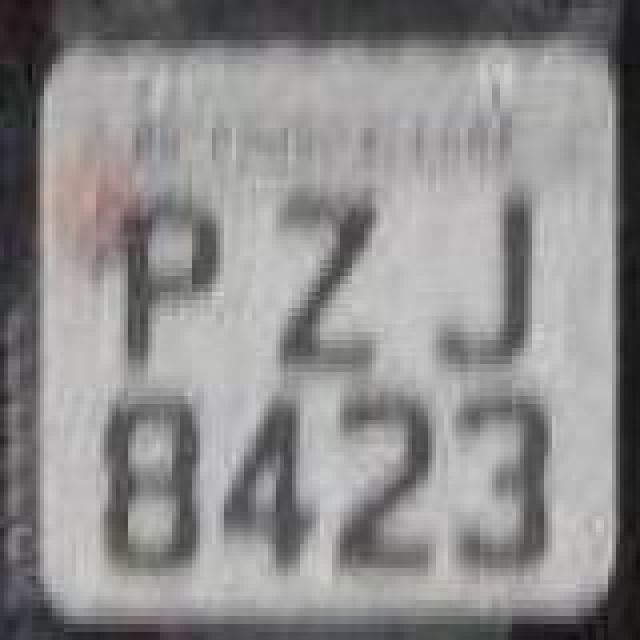2: (336, 398, 440, 578)
3: (452, 388, 556, 572)
4: (220, 392, 316, 568)
8: (98, 392, 206, 568)
J: (434, 182, 542, 378)
P: (116, 198, 220, 370)
Z: (270, 186, 386, 374)
